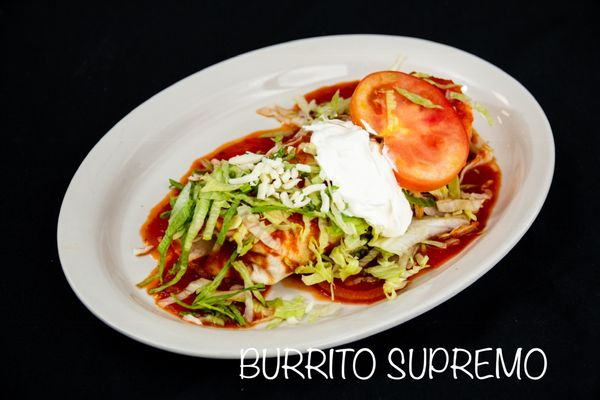sushi: (21, 27, 556, 352)
